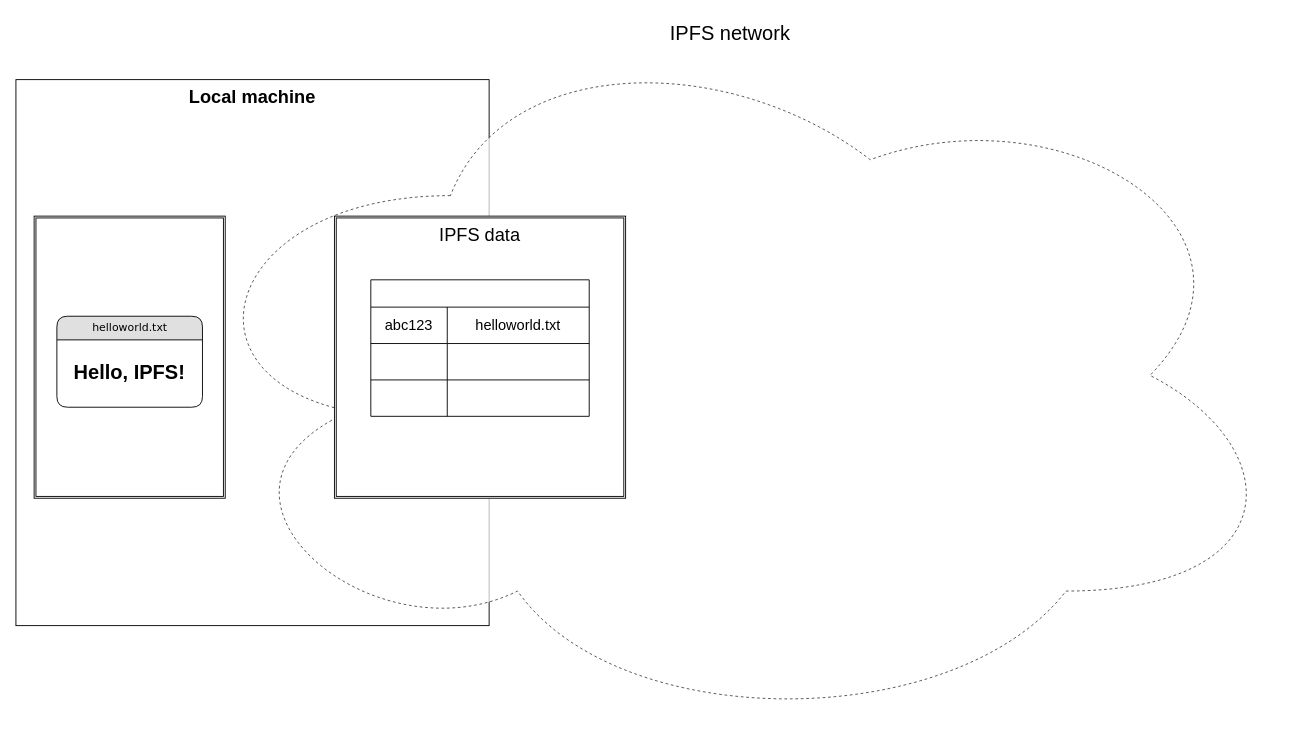
Image size: 1306x751. Some labels were removed from this diagram. The box of each missing label's shape, as (x1, y1, x2, y2) in pixels:
Local File System: (33, 215, 225, 498)
Pinned Files: (370, 279, 589, 416)
